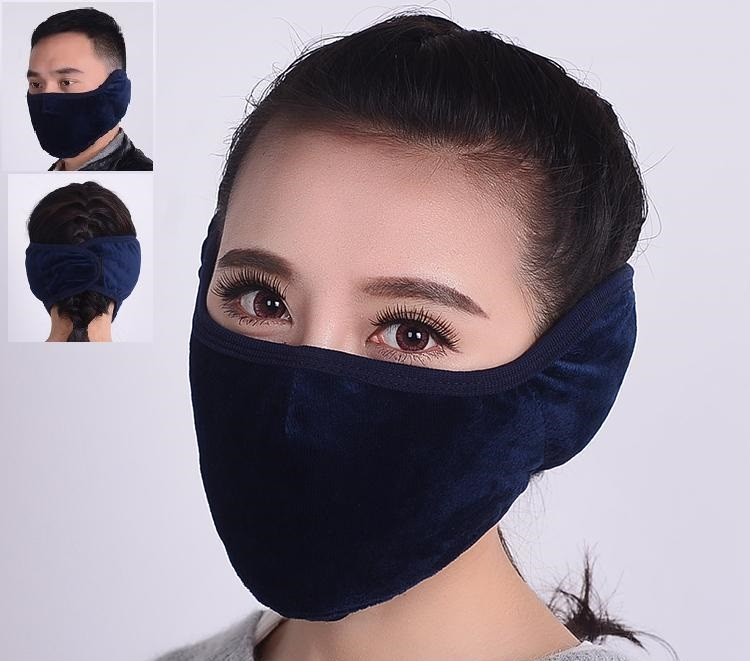face_mask: (199, 125, 539, 579), (26, 38, 113, 145)
